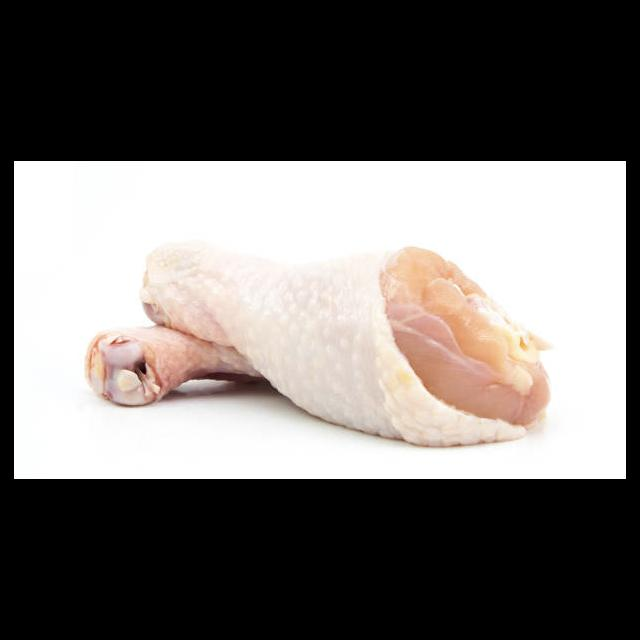chicken: (142, 234, 556, 450)
